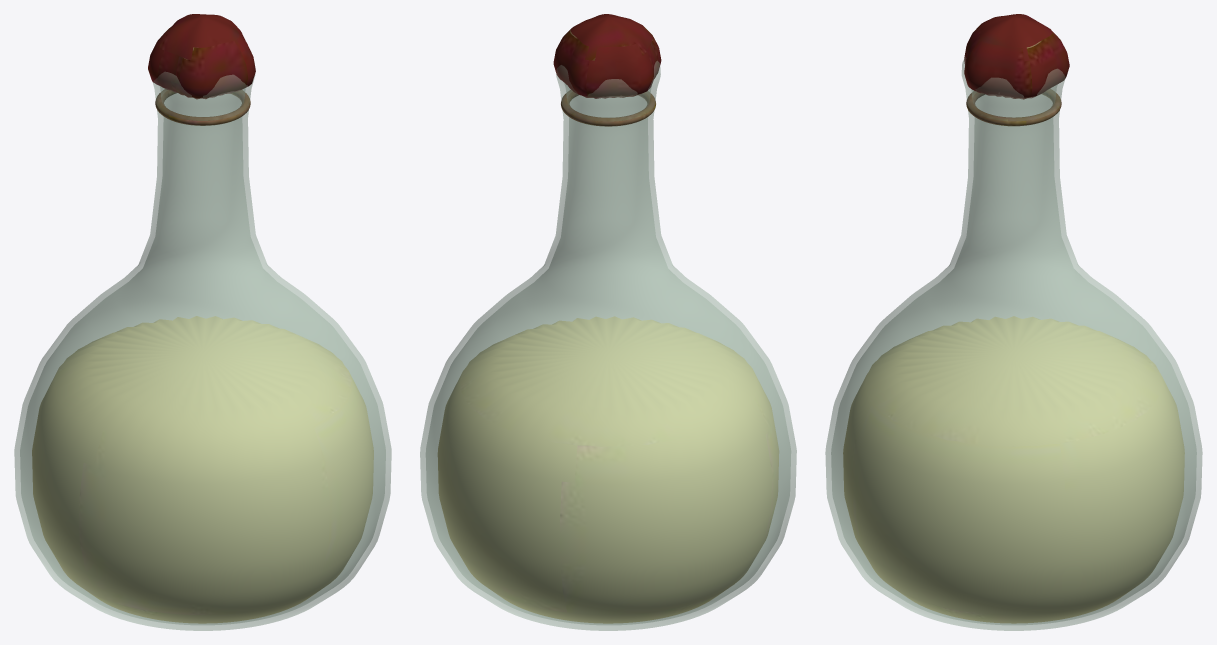
Rendered from sulfur_water.glb.
3 renders of one model, left to right at view 1: azimuth 30°, elevation 25°; view 2: azimuth 150°, elevation 25°; view 3: azimuth 270°, elevation 25°, orthographic.
Parts seen in each view (by area): view 1: glass, sulfur_water; view 2: glass, sulfur_water; view 3: glass, sulfur_water.
Boxes of the visible parts, bbox=[...] form: glass: bbox=[14, 72, 391, 630]; sulfur_water: bbox=[32, 14, 373, 623]; glass: bbox=[420, 61, 796, 630]; sulfur_water: bbox=[437, 14, 779, 623]; glass: bbox=[825, 57, 1202, 630]; sulfur_water: bbox=[843, 14, 1184, 623].
Bounding box in the file's own units: 0.1024 × 0.1737 × 0.1024.
2 materials, 1 textured.
